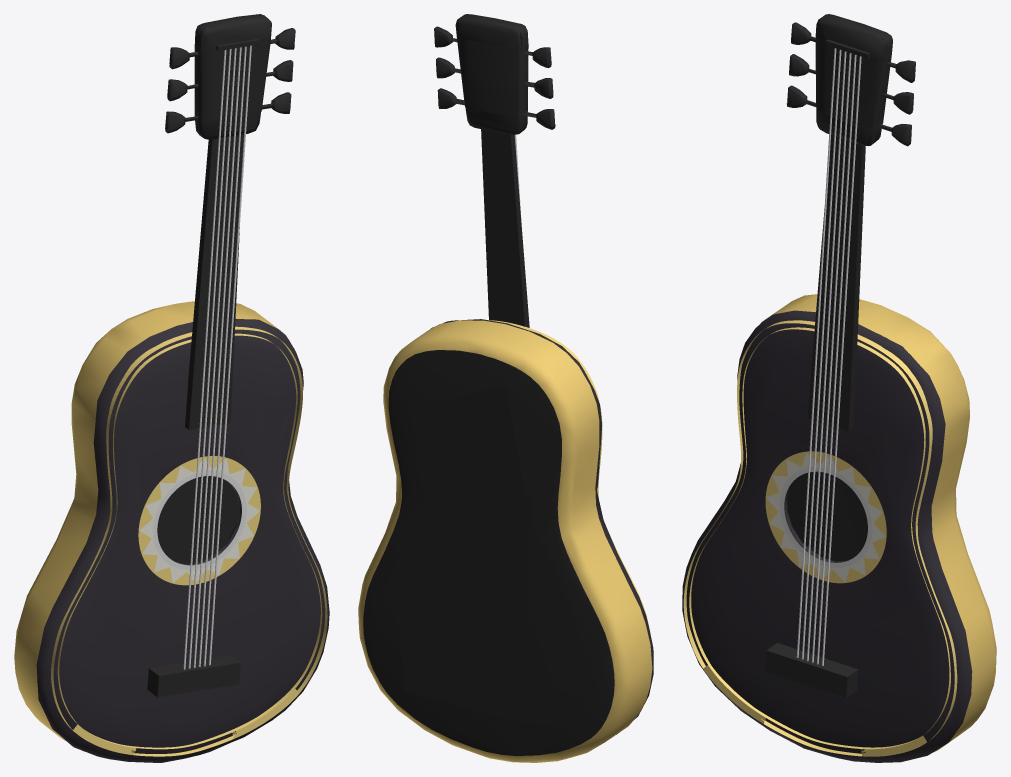
Rendered from requiem.glb.
The picture shows the model from 3 angles, left to right: view 1: azimuth 30°, elevation 25°; view 2: azimuth 150°, elevation 25°; view 3: azimuth 330°, elevation 25°; orthographic projection. The views are drawn at different scales.
Visible parts, largest first — view 1: Body, Strings; view 2: Body; view 3: Body, Strings.
Boxes of the visible parts, <box> form: Body: <box>14,14,329,762</box>; Strings: <box>183,45,251,669</box>; Body: <box>358,14,653,762</box>; Body: <box>682,14,996,762</box>; Strings: <box>796,48,861,665</box>.
Bounding box in the file's own units: 0.387 × 0.95 × 0.1176.
